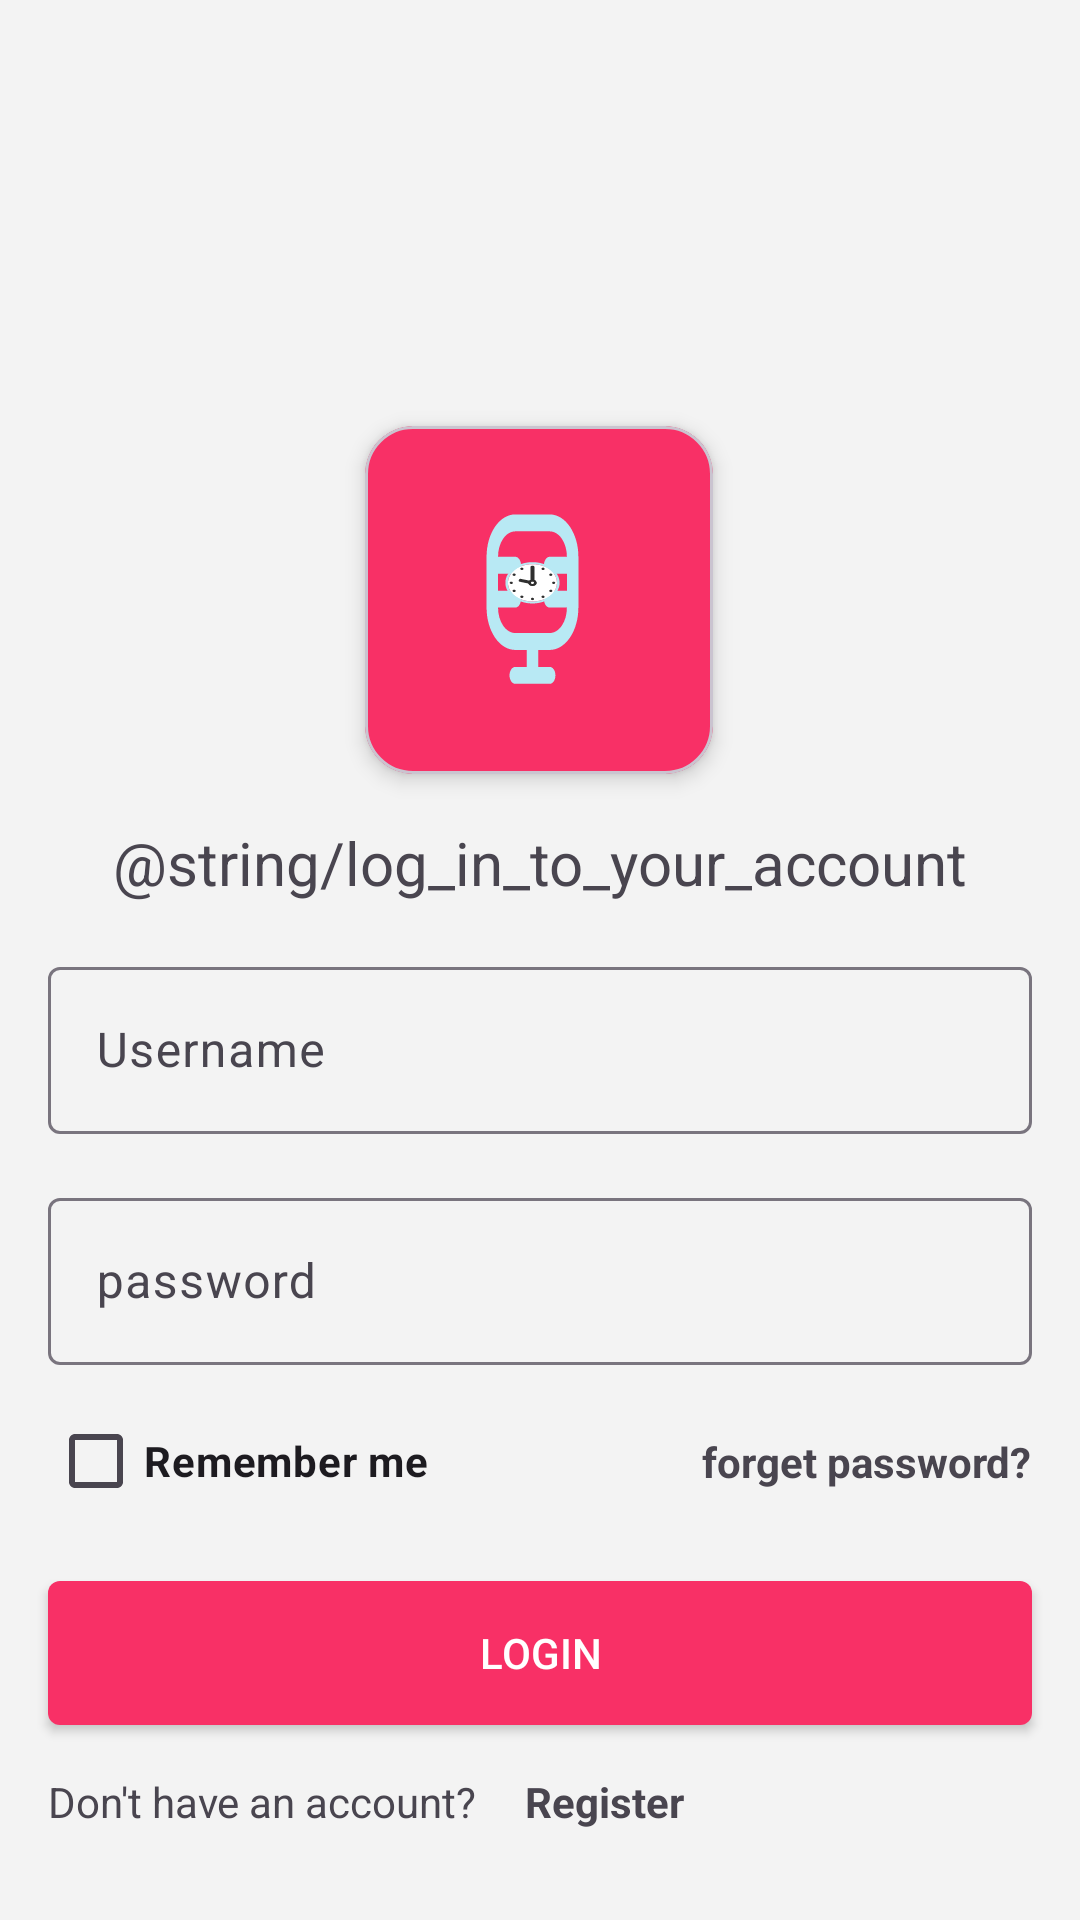

Locate icon controls on the screen. Image size 1080px×1920px, boxes as (x1, y1, x2, y2).
podcast: (365, 426, 713, 774)
